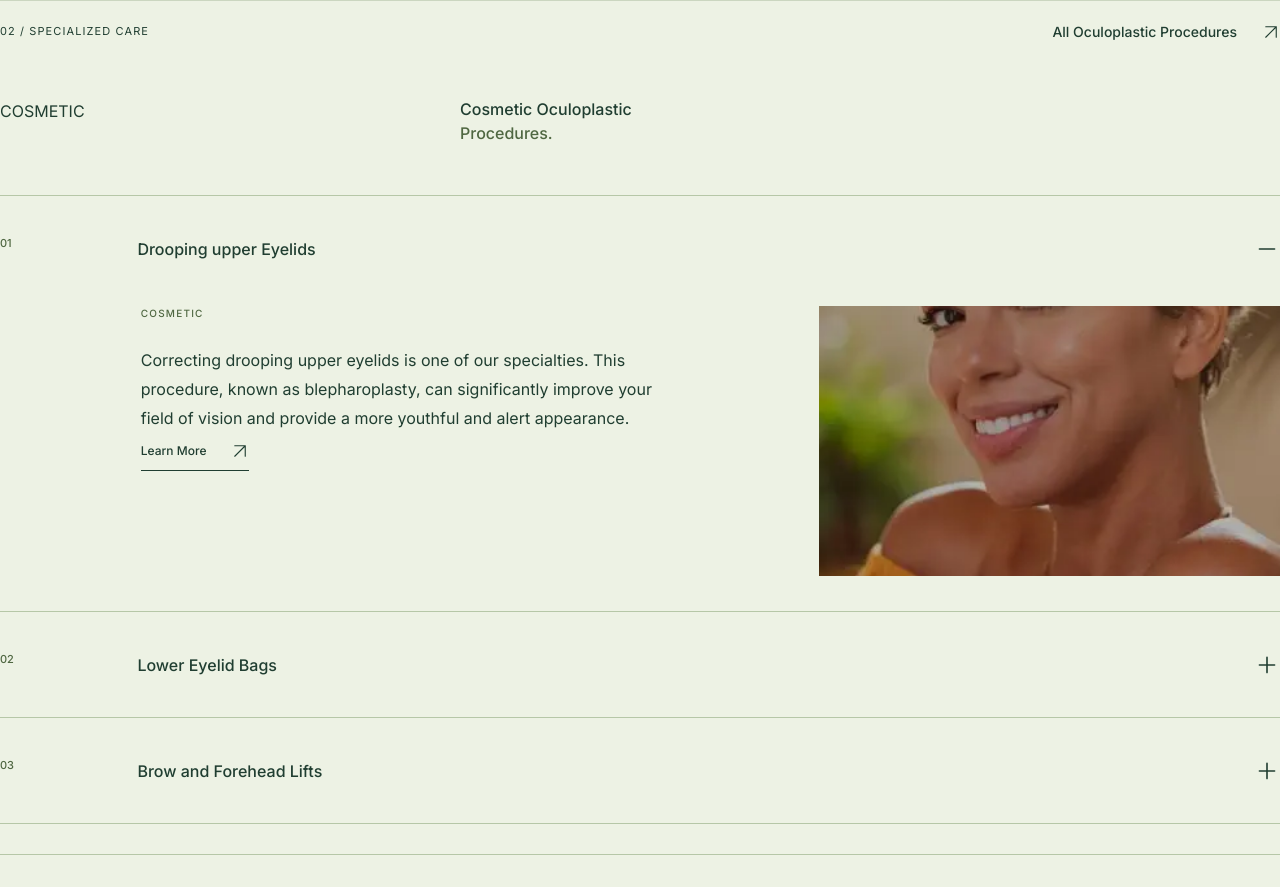
Test case: distinct procedure presentations › expands a business directory row and collapses it on a second activation
Click the button "02 Lower Eyelid Bags".
click(207, 664)  # box [0,612,1279,717]
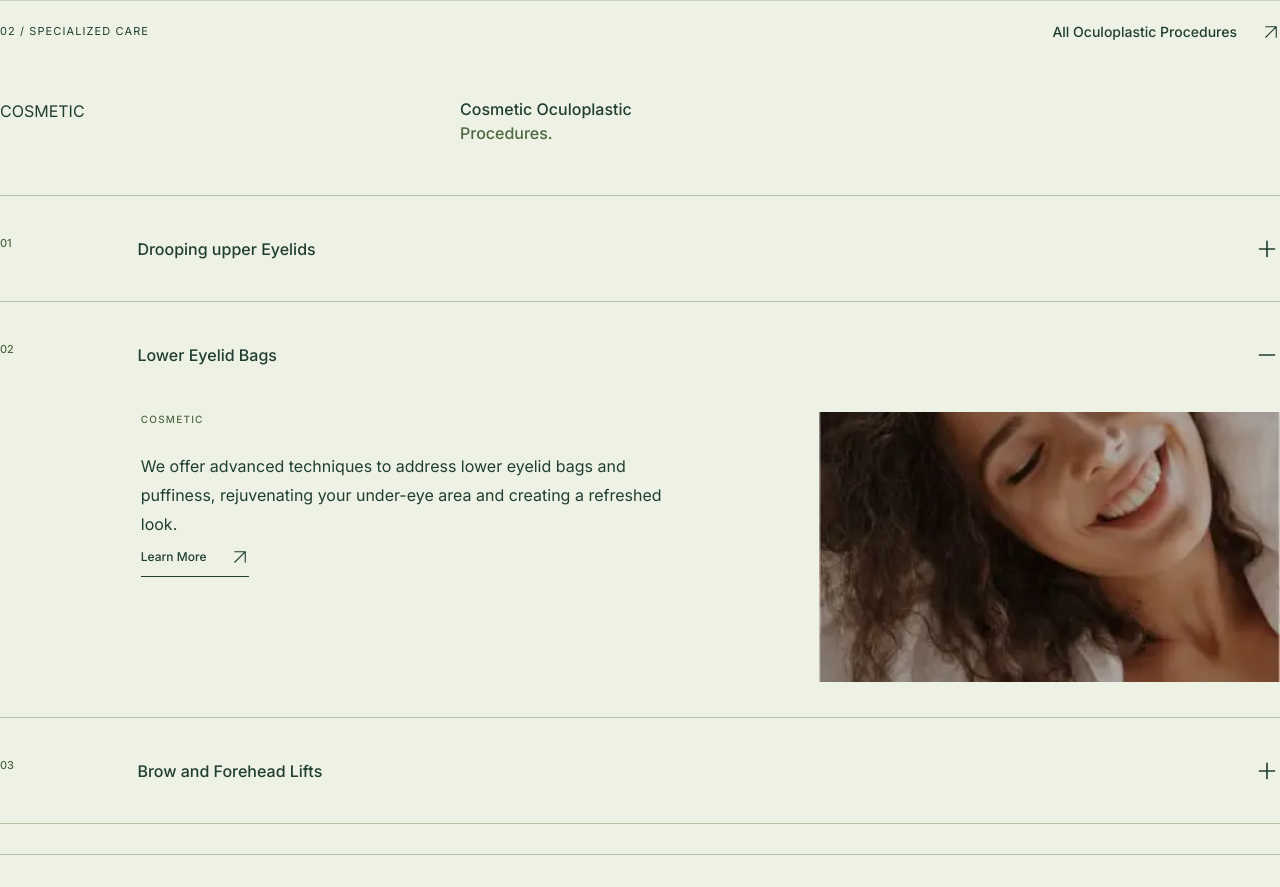
Expected: the number of elements with class "directory-procedure-panel" is 1, [0,407,1279,717]
Now the button "02 Lower Eyelid Bags" is expanded
Now the element with class "directory-procedure-panel" shows "We offer advanced techniques to address lower eyelid bags and puffiness, rejuvenating your under-eye area and creating a refreshed look.", box [141,456,662,534]
Click the button "02 Lower Eyelid Bags".
click(207, 354)  # box [0,302,1279,407]
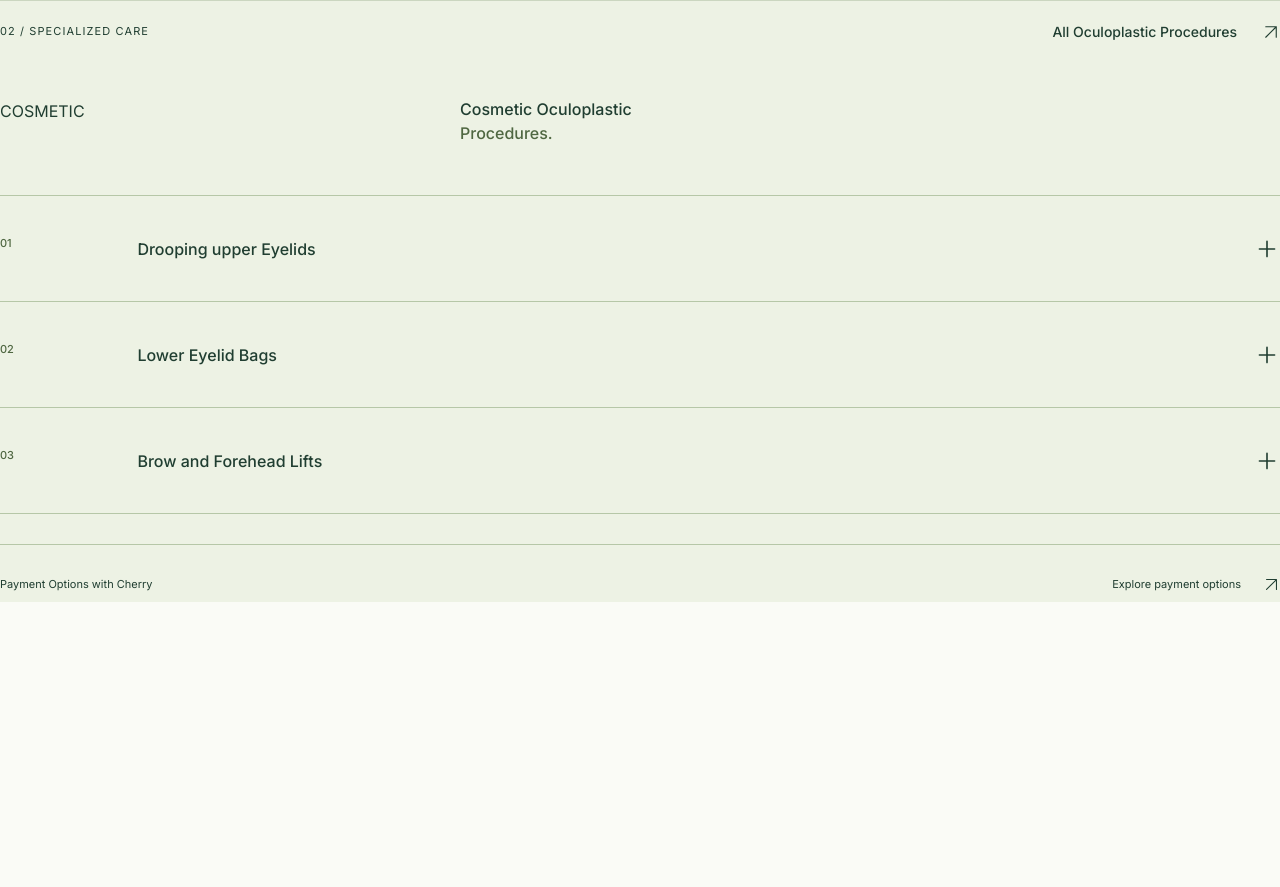
Now the button "02 Lower Eyelid Bags" is collapsed, box [0,302,1279,407]
Now no elements with class "directory-procedure-panel" are shown
